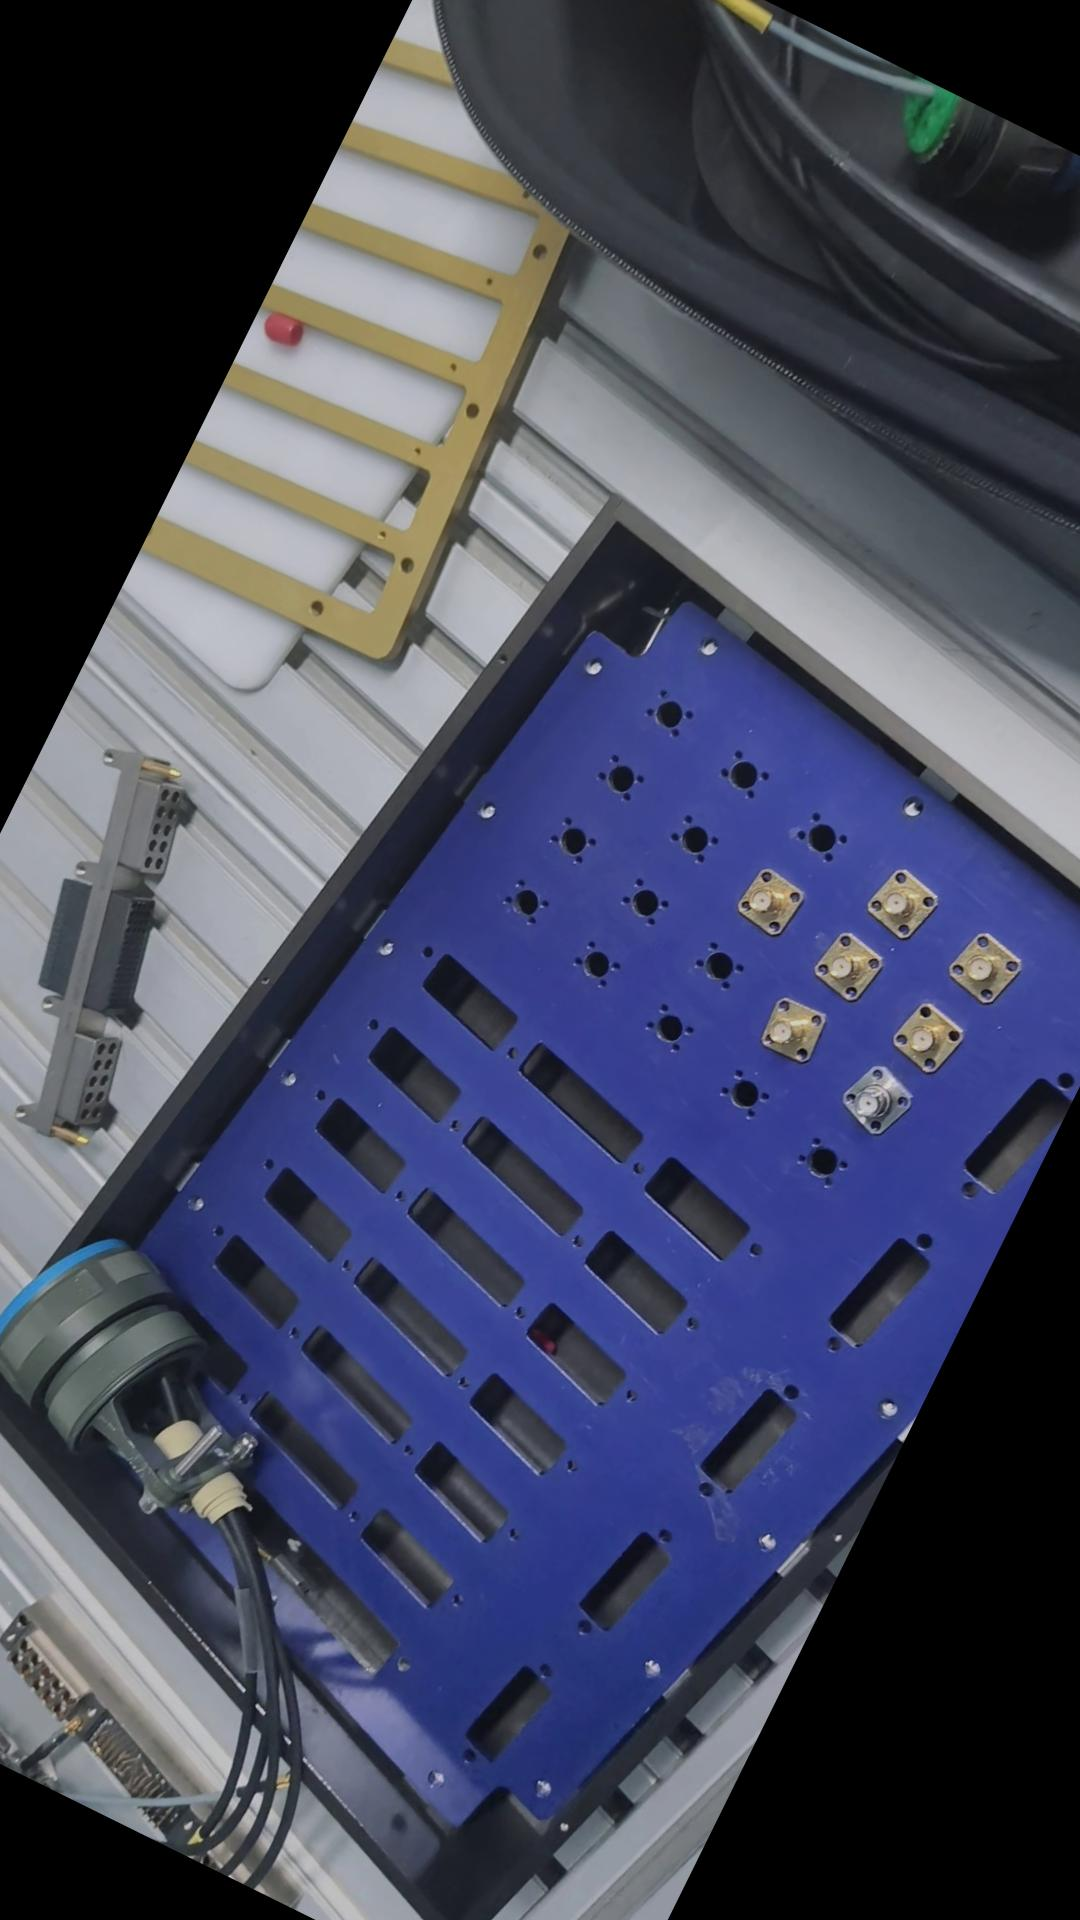SMA: (827, 1048, 920, 1145), (877, 989, 968, 1077), (939, 924, 1029, 1011), (802, 920, 891, 1007), (744, 985, 829, 1069), (857, 860, 940, 943), (724, 862, 807, 943)
